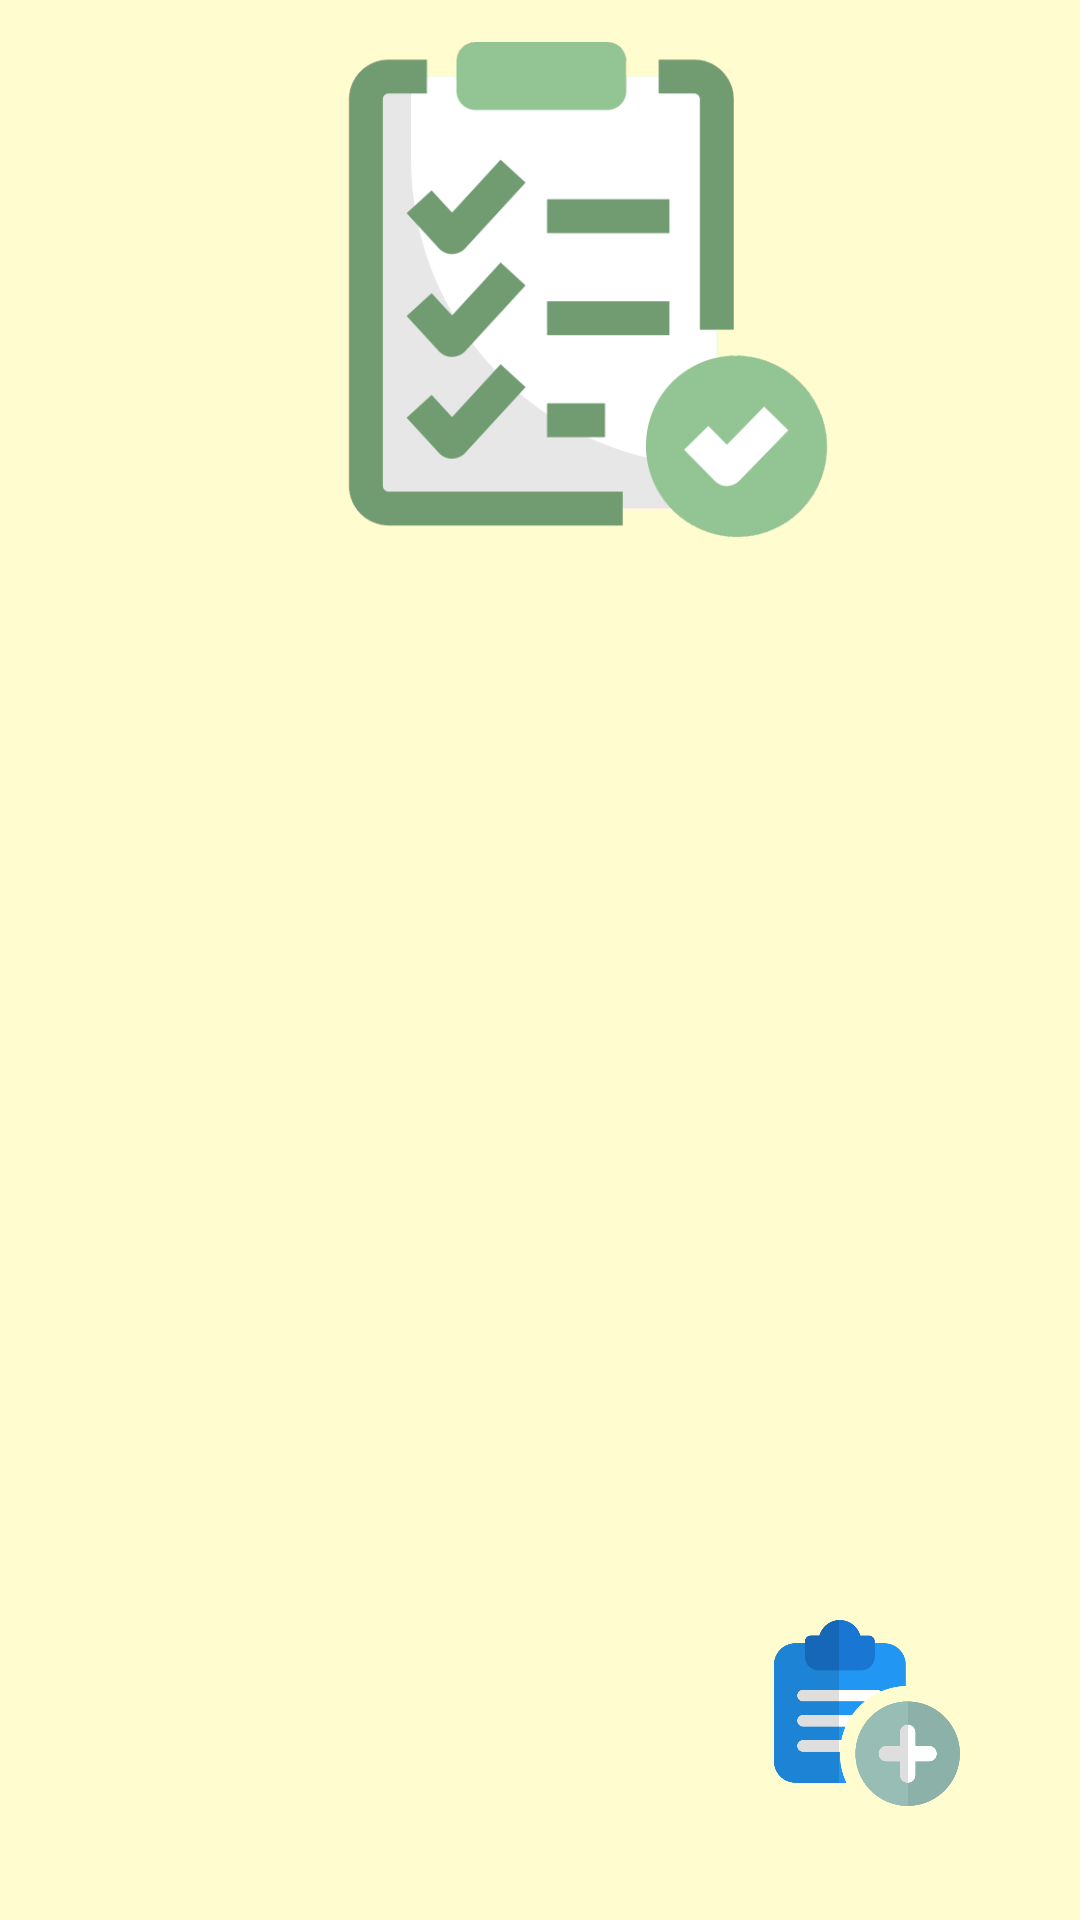

Icons on this 1080 × 1920 Android screen, each with the point to tap as (x=x, y=y):
add: (x=867, y=1713)
